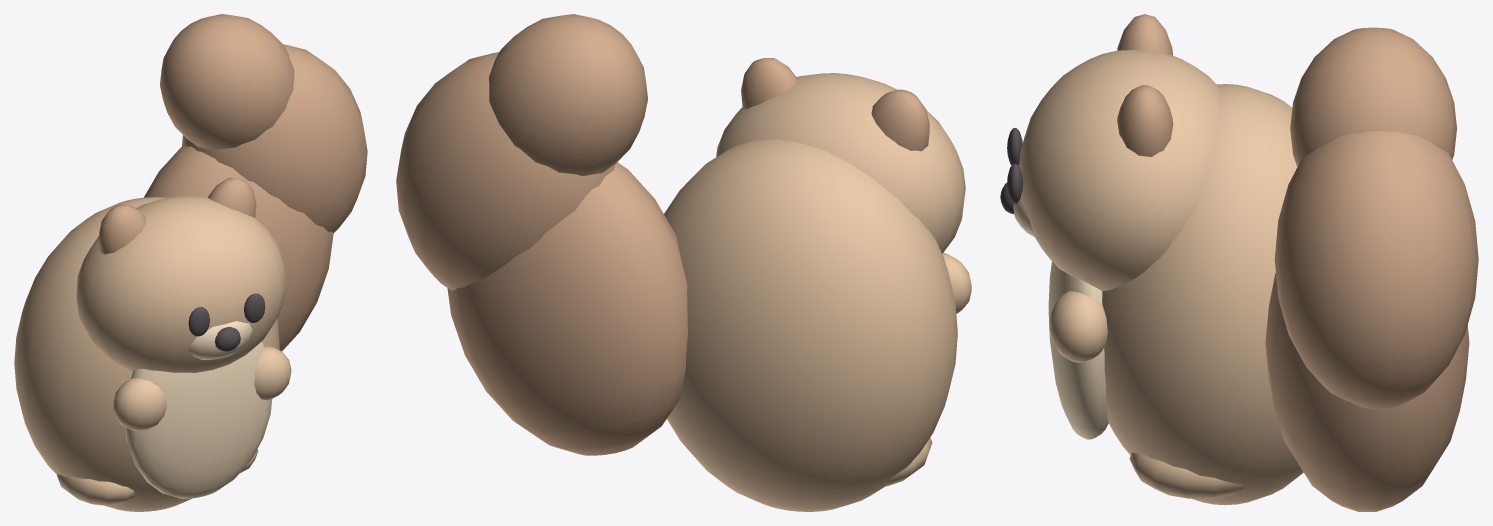
The model's file is acorn-squirrel.glb.
3 renders of one model, left to right at view 1: azimuth 30°, elevation 25°; view 2: azimuth 150°, elevation 25°; view 3: azimuth 270°, elevation 25°, orthographic. The views are drawn at different scales.
Visible parts, largest first — view 1: Head, Body, TailCrown, TailTip, Belly, TailMass, Paw_L, Ear_L, Paw_R, Foot_L, Ear_R, Muzzle (+3 smaller); view 2: Body, TailMass, TailCrown, TailTip, Head, Ear_L, Ear_R, Paw_L; view 3: Body, TailCrown, Head, TailMass, TailTip, Belly, Paw_R, Ear_R, Foot_R, Ear_L.
Boxes of the visible parts, x1,y1,x2,y2 form: Head: (76, 195, 286, 372); Body: (14, 197, 279, 511); TailCrown: (182, 44, 367, 232); TailTip: (160, 14, 294, 149); Belly: (125, 341, 272, 498); TailMass: (144, 145, 333, 351); Paw_L: (113, 378, 166, 430); Ear_L: (99, 204, 145, 254); Paw_R: (254, 346, 291, 400); Foot_L: (57, 474, 135, 505); Ear_R: (208, 178, 256, 217); Muzzle: (188, 321, 252, 359); Body: (664, 139, 957, 511); TailMass: (447, 162, 687, 455); TailCrown: (396, 52, 615, 290); TailTip: (488, 14, 647, 176); Head: (716, 73, 965, 253); Ear_L: (871, 89, 929, 151); Ear_R: (741, 58, 797, 109); Paw_L: (942, 252, 971, 313); Body: (1102, 84, 1303, 505); TailCrown: (1274, 131, 1478, 408); Head: (1019, 50, 1220, 290); TailMass: (1265, 272, 1469, 511); TailTip: (1290, 27, 1456, 166); Belly: (1048, 261, 1108, 439); Paw_R: (1049, 290, 1107, 362); Ear_R: (1117, 85, 1173, 156); Foot_R: (1129, 452, 1244, 498); Ear_L: (1117, 14, 1172, 55).
Bounding box in the file's own units: 0.9549 × 0.9637 × 0.774.
